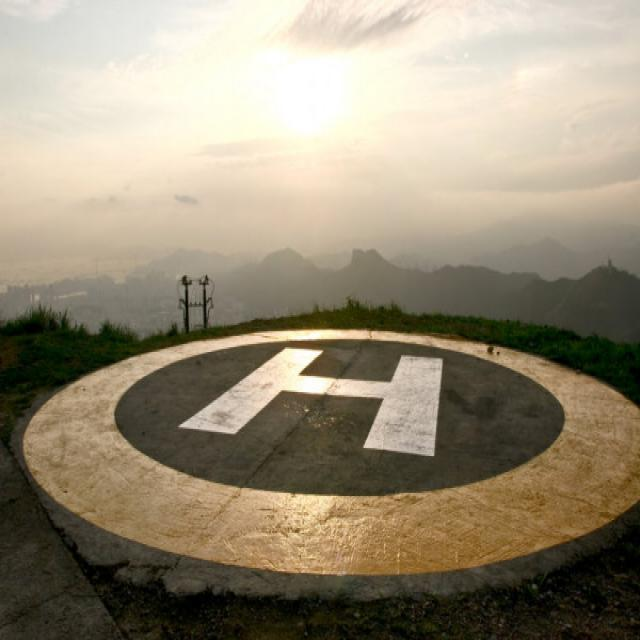helipad: (18, 310, 639, 588)
